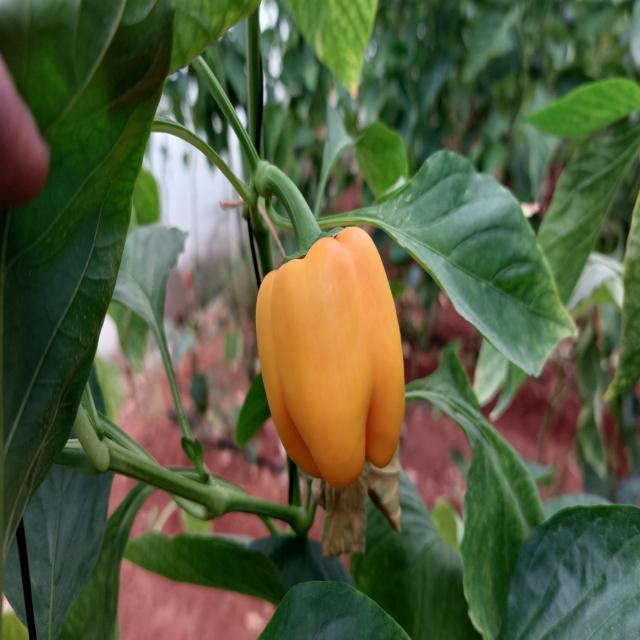Yellow-Ready-to-Harvest: (241, 222, 408, 488)
